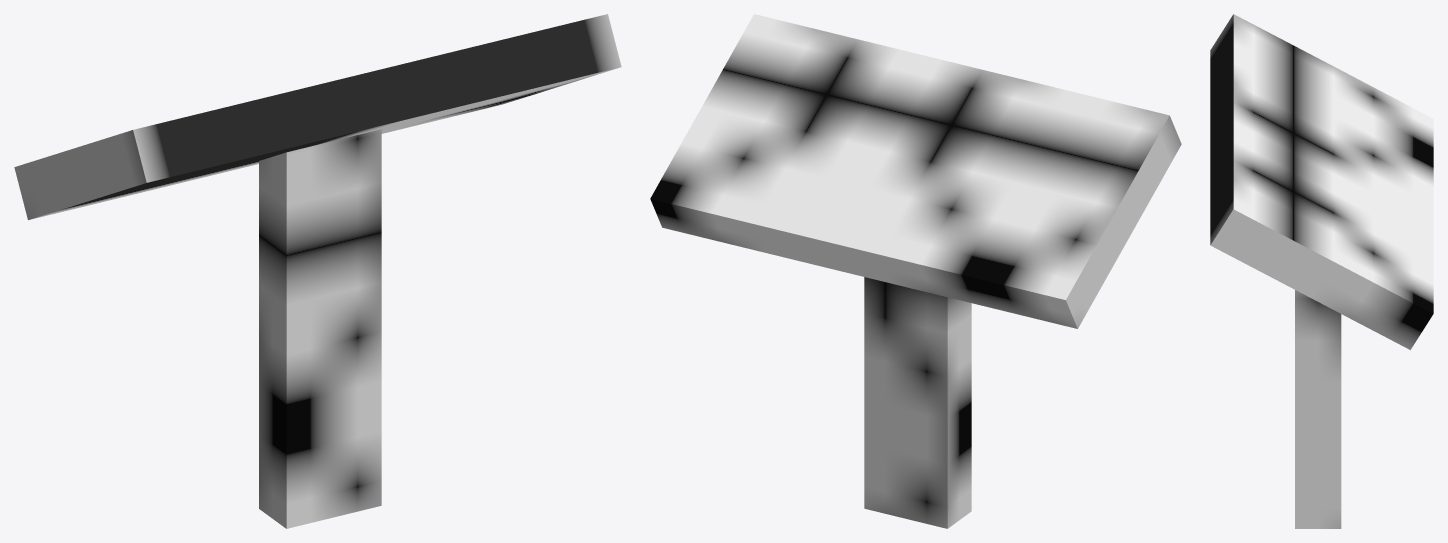
The model's file is screen_tier_2.obj.
3 renders of one model, left to right at view 1: azimuth 30°, elevation 25°; view 2: azimuth 150°, elevation 25°; view 3: azimuth 270°, elevation 25°, orthographic. The views are drawn at different scales.
Parts seen in each view (by area): view 1: base_Shape4, screen_Shape5; view 2: screen_Shape5, base_Shape4; view 3: screen_Shape5, base_Shape4.
Part boxes in pixels (x1,y1,x2,y2): base_Shape4: (259,129,381,528); screen_Shape5: (14,14,621,220); screen_Shape5: (650,14,1181,328); base_Shape4: (864,277,971,528); screen_Shape5: (1210,14,1433,349); base_Shape4: (1295,290,1341,528).
Bounding box in the file's own units: 0.625 × 0.5937 × 0.3019.
